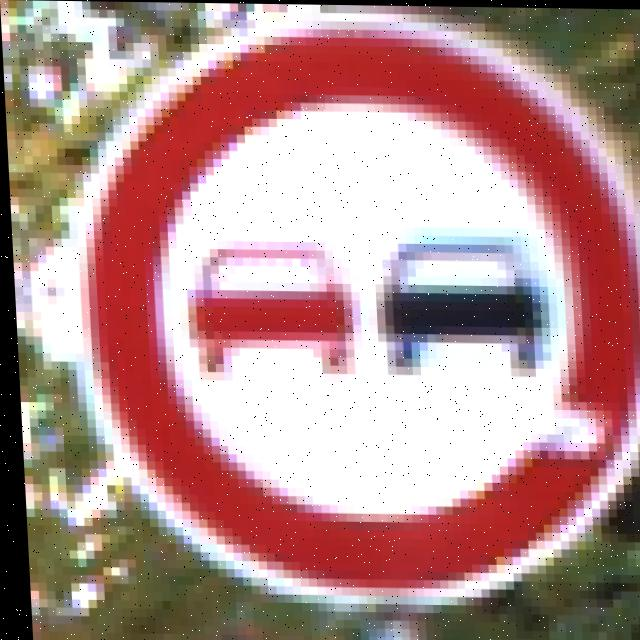no_overtaking: (57, 31, 640, 600)
